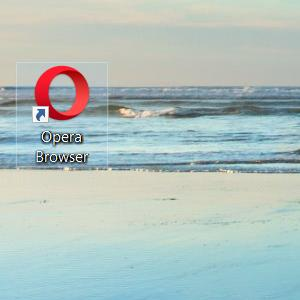opera: (32, 65, 90, 123)
